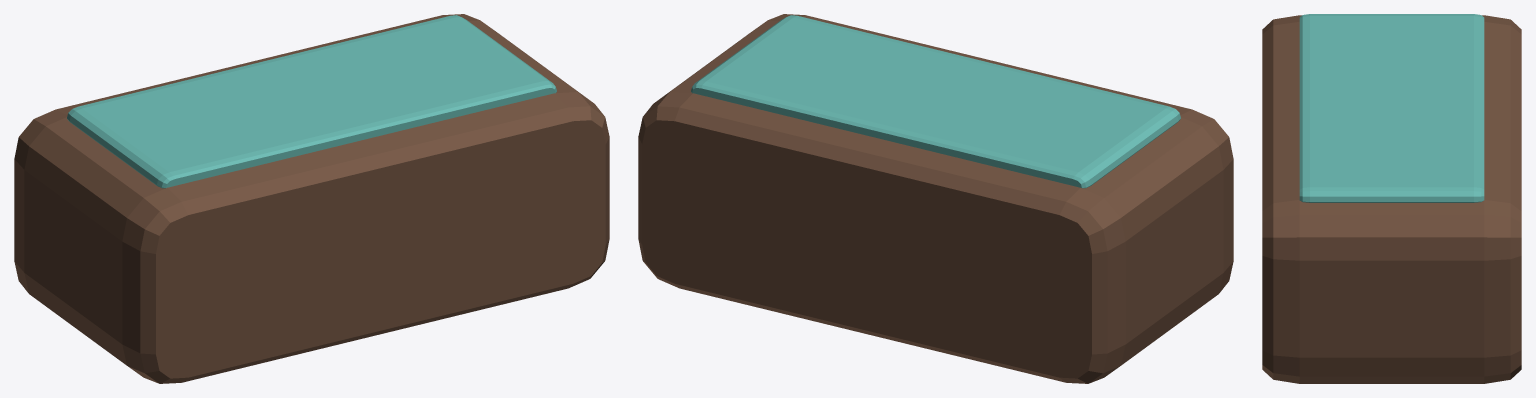
File: farm-trough.glb
The picture shows the model from 3 angles, left to right: view 1: azimuth 30°, elevation 25°; view 2: azimuth 150°, elevation 25°; view 3: azimuth 270°, elevation 25°; orthographic projection. The views are drawn at different scales.
Parts seen in each view (by area): view 1: shell, water; view 2: shell, water; view 3: shell, water.
Part boxes in pixels (left/top/right/bottom): shell: left=14, top=14, right=609, bottom=383; water: left=67, top=15, right=556, bottom=188; shell: left=638, top=14, right=1233, bottom=383; water: left=691, top=15, right=1180, bottom=188; shell: left=1262, top=15, right=1521, bottom=383; water: left=1299, top=14, right=1484, bottom=202.
Bounding box in the file's own units: 0.9 × 0.3575 × 0.45.
